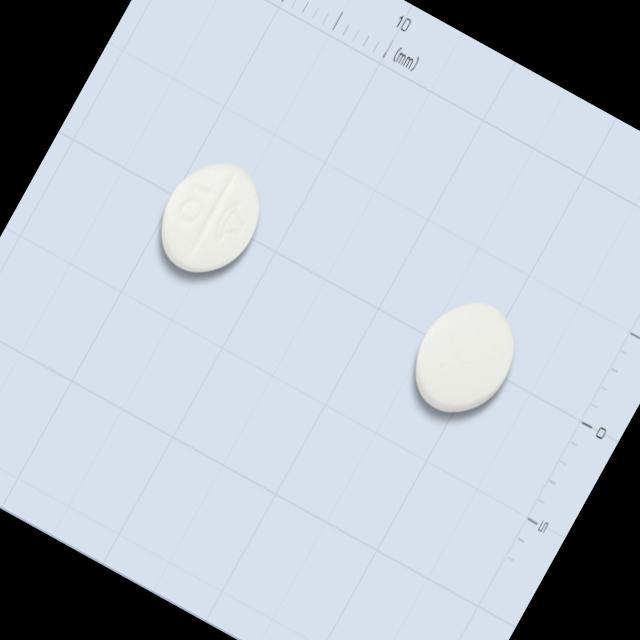CLARITYNE: (132, 132, 288, 305)
